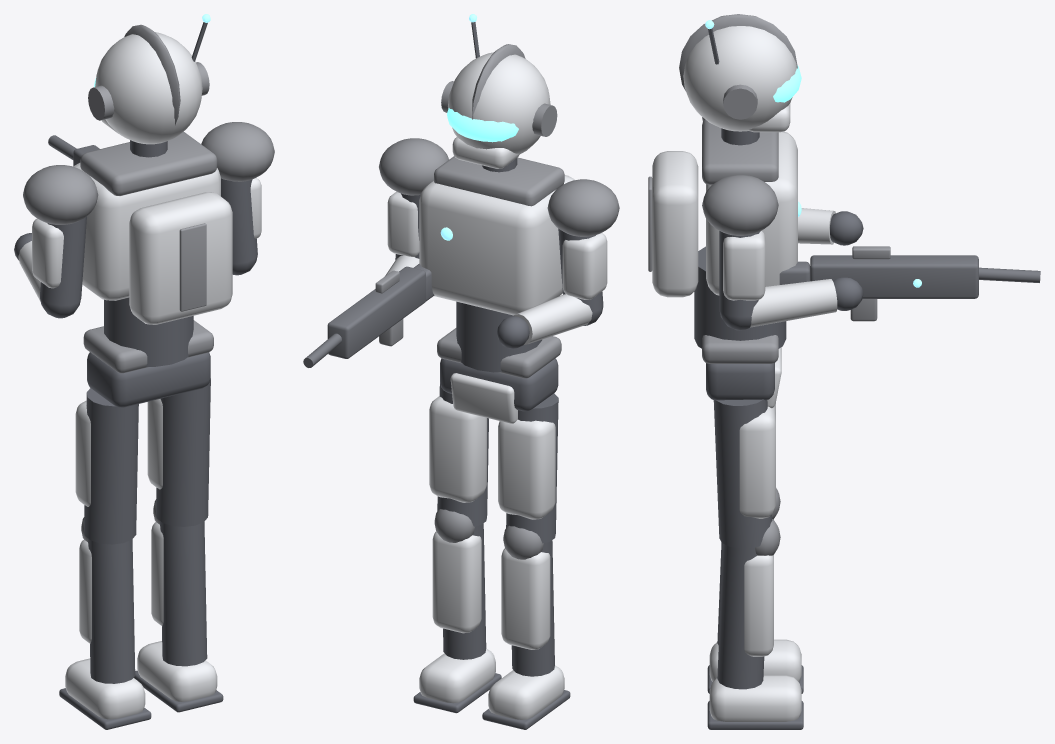
Rendered from ally_trooper.glb.
3 renders of one model, left to right at view 1: azimuth 30°, elevation 25°; view 2: azimuth 150°, elevation 25°; view 3: azimuth 270°, elevation 25°, orthographic. The views are drawn at different scales.
Visible parts, largest first — view 1: Torso, Head, Thigh_L, Thigh_R, UpperArm_L, Shin_L, Shin_R, UpperArm_R, Pelvis, Foot_L, Foot_R, LowerArm_L (+1 smaller); view 2: Torso, Head, Thigh_L, Shin_R, Shin_L, UpperArm_L, Thigh_R, LowerArm_R, Pelvis, UpperArm_R, Foot_L, Foot_R (+1 smaller); view 3: Torso, LowerArm_R, Head, Thigh_R, Shin_R, UpperArm_R, Foot_R, Pelvis, LowerArm_L, Foot_L.
Boxes of the visible parts, x1,y1,x2,y2 form: Torso: (73, 131, 232, 373); Head: (88, 14, 210, 157); Thigh_L: (75, 388, 138, 544); Thigh_R: (147, 378, 210, 526); UpperArm_L: (23, 165, 98, 305); Shin_L: (79, 517, 135, 683); Shin_R: (151, 500, 207, 666); UpperArm_R: (201, 122, 274, 263); Pelvis: (87, 352, 210, 407); Foot_L: (59, 658, 151, 729); Foot_R: (134, 641, 223, 712); LowerArm_L: (14, 233, 80, 318); Torso: (419, 156, 574, 378); Head: (441, 14, 557, 172); Thigh_L: (498, 393, 558, 543); Shin_R: (432, 509, 486, 659); Shin_L: (501, 525, 554, 676); UpperArm_L: (547, 179, 619, 312); Thigh_R: (429, 383, 488, 526); LowerArm_R: (303, 255, 434, 367); Pelvis: (440, 358, 558, 423); UpperArm_R: (379, 138, 448, 259); Foot_L: (482, 665, 570, 729); Foot_R: (413, 649, 501, 713); Torso: (648, 119, 801, 363); LowerArm_R: (719, 246, 1040, 330); Head: (679, 14, 801, 145); Thigh_R: (713, 399, 775, 548); Shin_R: (717, 519, 780, 689); UpperArm_R: (702, 175, 778, 316); Foot_R: (707, 675, 803, 729); Pelvis: (706, 347, 781, 408); LowerArm_L: (798, 208, 863, 245); Foot_L: (707, 639, 803, 693).
Size of the model in its own units: 1.24 by 3.41 by 1.72.
